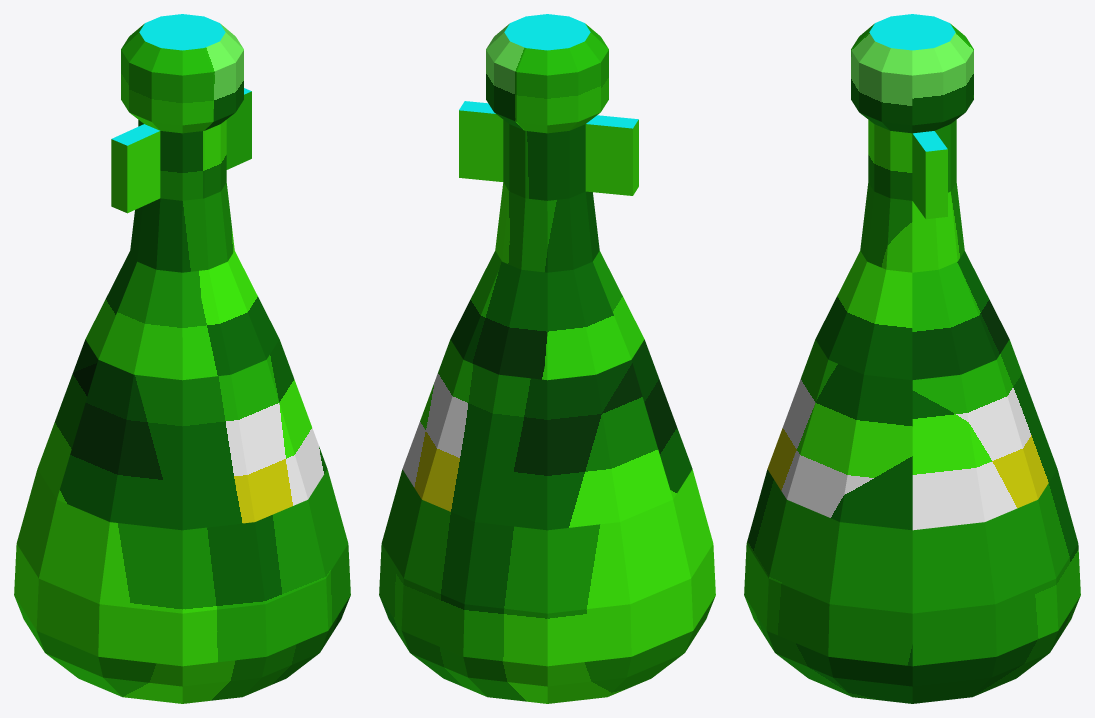
File: bottle_616x01.gltf
3 views of the same model, side by side, from view 1: azimuth 30°, elevation 25°; view 2: azimuth 150°, elevation 25°; view 3: azimuth 270°, elevation 25° (orthographic).
Visible parts, largest first — view 1: bottle_616x01; view 2: bottle_616x01; view 3: bottle_616x01.
Boxes of the visible parts, x1,y1,x2,y2 form: bottle_616x01: (14,14,350,703); bottle_616x01: (379,14,715,703); bottle_616x01: (744,14,1080,703).
Bounding box in the file's own units: 0.5146 × 1.05 × 0.5146.
1 material, 1 textured.
